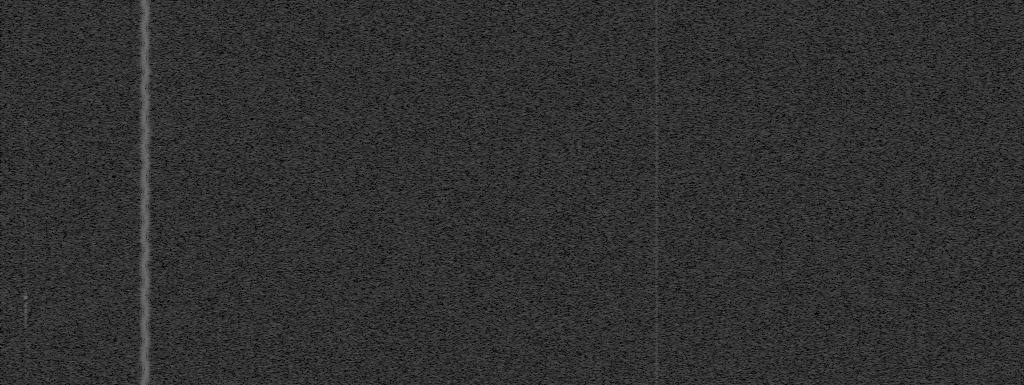wv_am: (654, 0, 659, 385)
wv_usb: (23, 289, 29, 329), (23, 177, 28, 217), (23, 118, 29, 144), (24, 355, 28, 385), (24, 218, 28, 246), (24, 336, 28, 354), (24, 145, 28, 161), (24, 267, 28, 280), (24, 252, 28, 265), (91, 236, 96, 244), (24, 162, 28, 171), (91, 245, 95, 253), (24, 281, 28, 288), (92, 91, 95, 99), (24, 330, 28, 335), (24, 172, 28, 176), (24, 247, 28, 251), (92, 168, 95, 172), (92, 255, 95, 258)
wv_wbfm: (136, 0, 154, 385)
